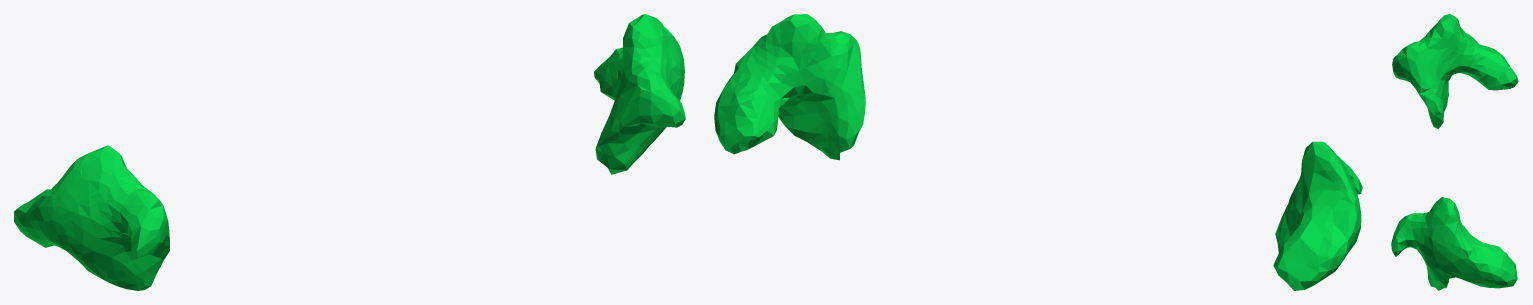
File: 17-AI-agranular insular cortex-('0.0000', '1.0000', '0.3412').obj
3 renders of one model, left to right at view 1: azimuth 30°, elevation 25°; view 2: azimuth 150°, elevation 25°; view 3: azimuth 270°, elevation 25°, orthographic. The views are drawn at different scales.
Bounding box in the file's own units: 268 × 58 × 65.65.
